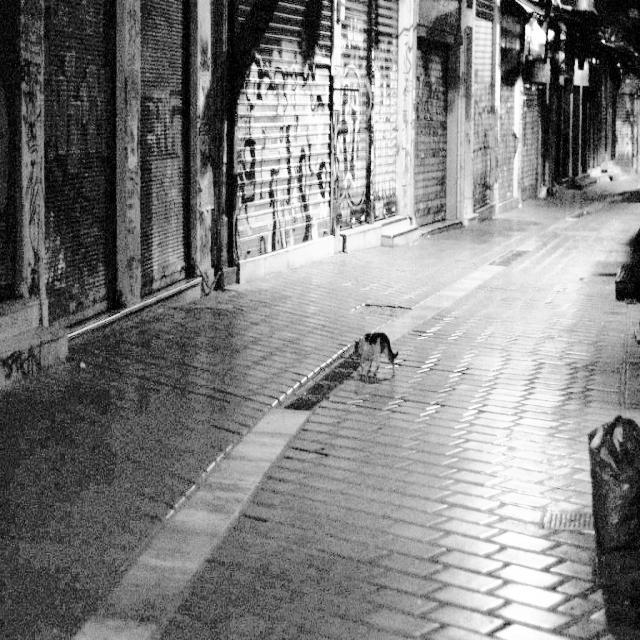Cat: (353, 331, 402, 376)
